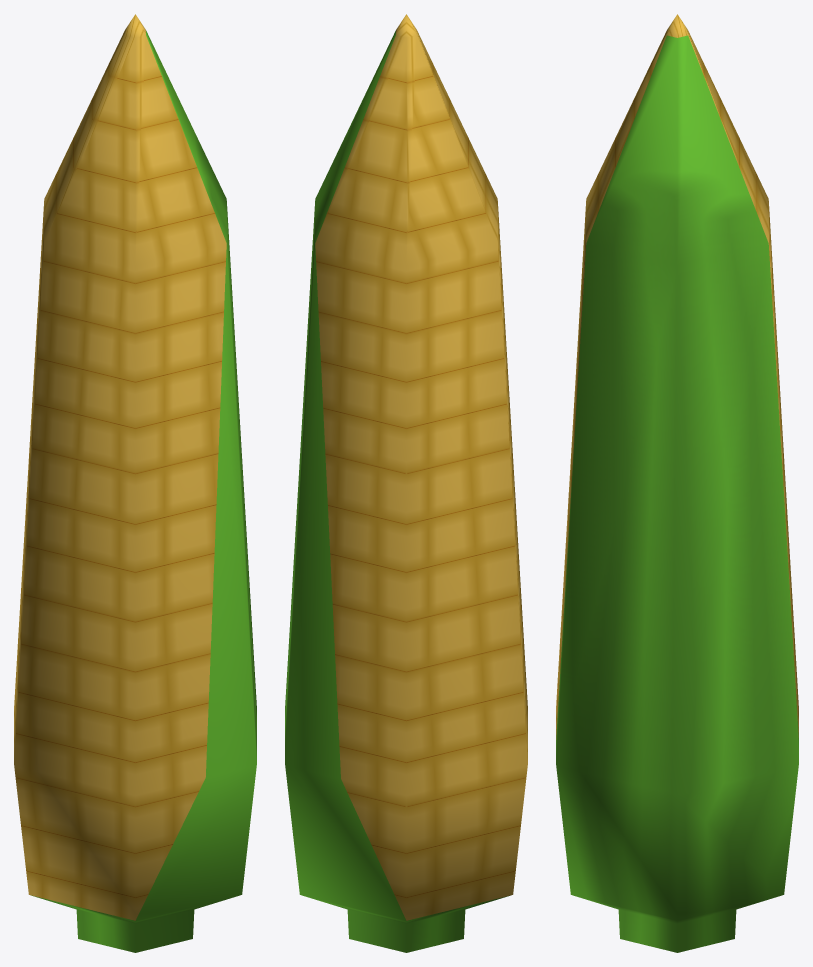
The model's file is Sweetcorn.FBX.
3 renders of one model, left to right at view 1: azimuth 30°, elevation 25°; view 2: azimuth 150°, elevation 25°; view 3: azimuth 270°, elevation 25°, orthographic.
Parts seen in each view (by area): view 1: Sweetcorn; view 2: Sweetcorn; view 3: Sweetcorn.
Boxes of the visible parts, box(x1,y1,x2,y2) form: Sweetcorn: box(14, 14, 256, 952); Sweetcorn: box(285, 14, 527, 952); Sweetcorn: box(556, 14, 798, 952).
Bounding box in the file's own units: 4.89 × 17.54 × 4.24.
Materials: 1 (1 with a texture image).
